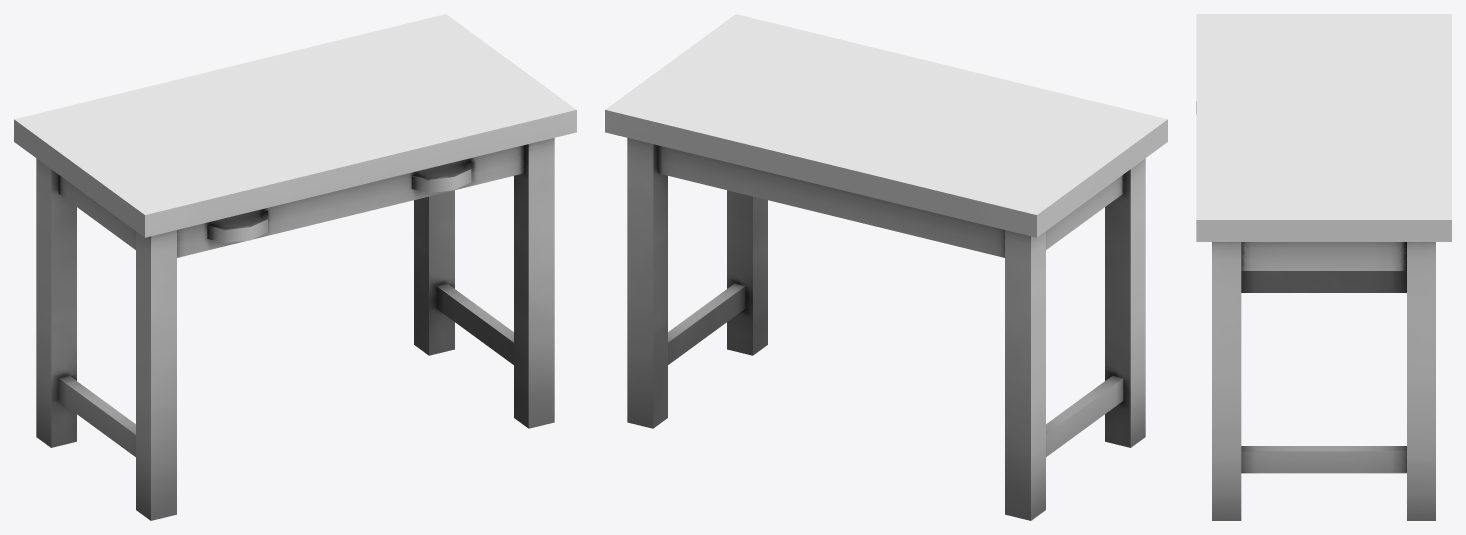
The model's file is desk01.fbx.
3 renders of one model, left to right at view 1: azimuth 30°, elevation 25°; view 2: azimuth 150°, elevation 25°; view 3: azimuth 270°, elevation 25°, orthographic. The views are drawn at different scales.
Visible parts, largest first — view 1: desk01; view 2: desk01; view 3: desk01.
Part boxes in pixels (x1=…): desk01: x1=14, y1=14, x2=576, y2=520; desk01: x1=605, y1=14, x2=1167, y2=520; desk01: x1=1196, y1=14, x2=1451, y2=520.
Bounding box in the file's own units: 100 × 69.74 × 52.53.
